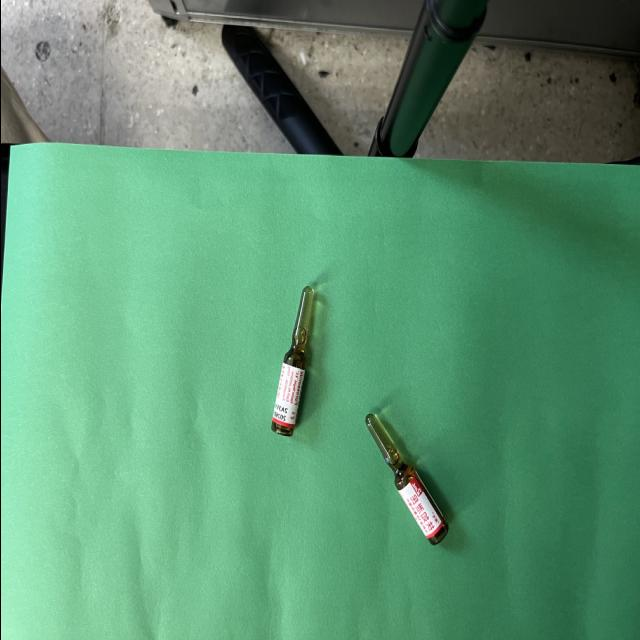Ampoules: (364, 413, 449, 547), (270, 287, 313, 438)
